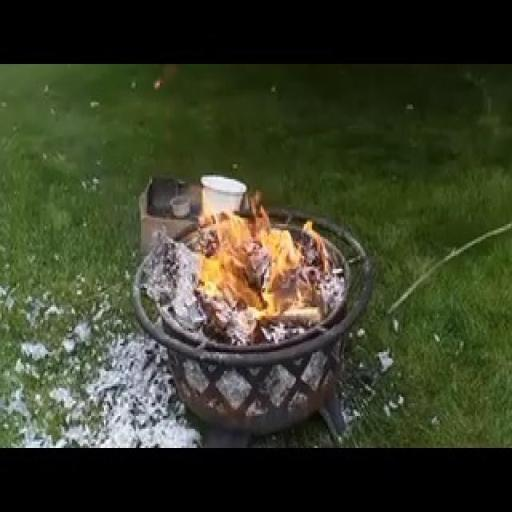smoke: (102, 139, 335, 337)
